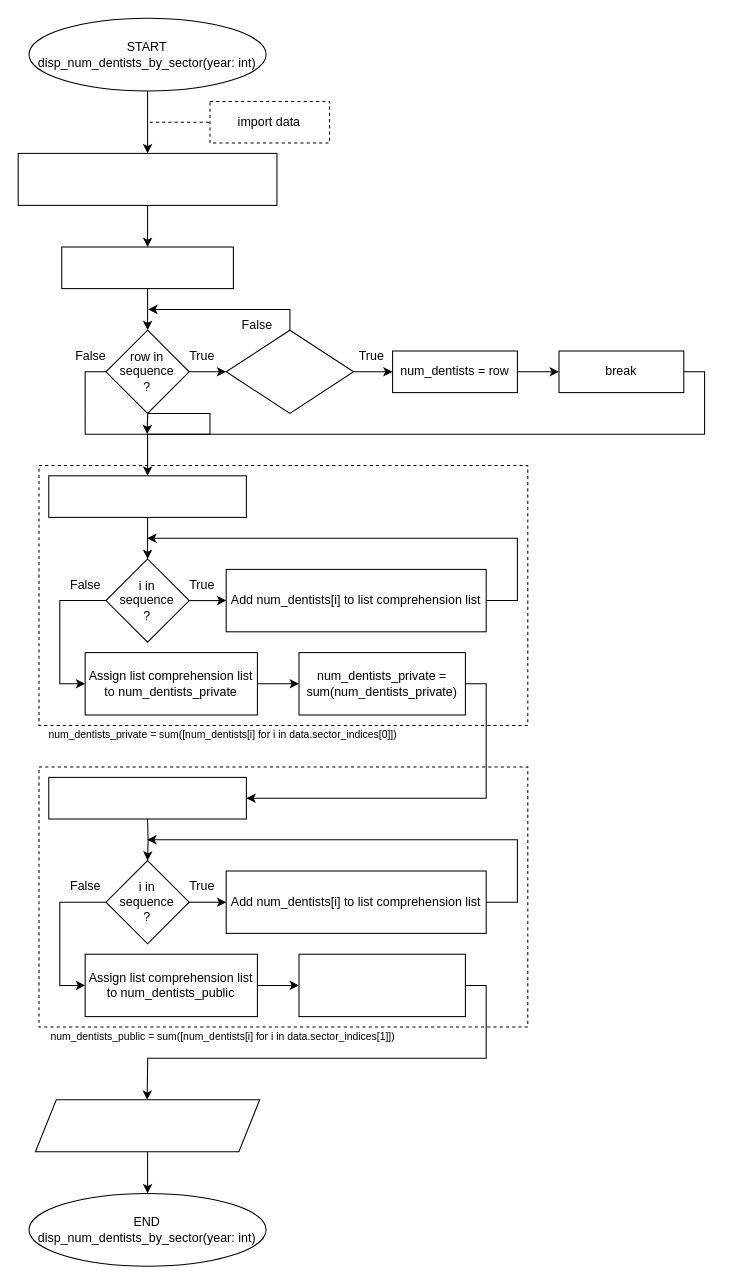
The diagram is 731 pixels wide and 1284 high, and some of its shapes have lost their labels. Each missing label, with the box of its shape:
Display num_dentists_private and num_dentists_public: (34, 1099, 260, 1152)
for each i in data.sector_indices[0]: (48, 475, 246, 517)
for each i in data.sector_indices[1]: (48, 776, 246, 819)
for each row in data.row_data: (61, 246, 233, 289)
Initialise num_dentists, num_dentists_private, num_dentists_public to []: (17, 152, 277, 205)
num_dentists_public = sum(num_dentists_public): (298, 953, 465, 1017)
row[0] == year ?: (225, 329, 354, 413)
